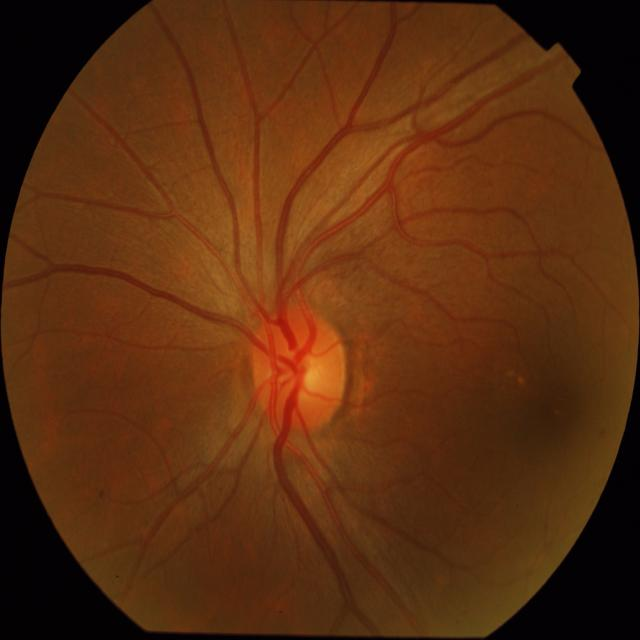OC: (276, 339, 328, 403)
OD: (249, 305, 348, 432)
